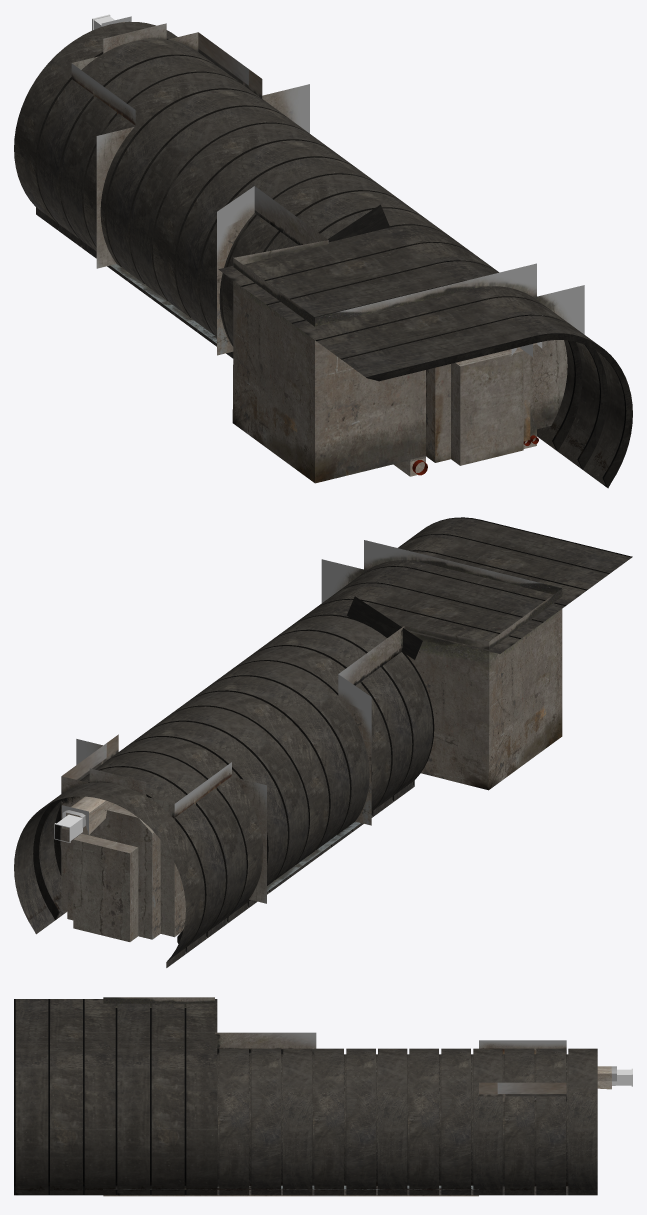
The model's file is room_hall_final1.gltf.
The picture shows the model from 3 angles, top to bottom: view 1: azimuth 30°, elevation 25°; view 2: azimuth 150°, elevation 25°; view 3: azimuth 270°, elevation 25°; orthographic projection. The views are drawn at different scales.
Visible parts, largest first — view 1: round_ceil_allround, wall_and_floor, round_ceil_extend, fix_zed; view 2: round_ceil_allround, wall_and_floor, round_ceil_extend, fix_zed; view 3: round_ceil_allround, round_ceil_extend, wall_and_floor.
Boxes of the visible parts, x1,y1,x2,y2 form: round_ceil_allround: [14, 21, 448, 358]; wall_and_floor: [71, 16, 584, 483]; round_ceil_extend: [218, 225, 632, 488]; fix_zed: [326, 204, 389, 242]; round_ceil_allround: [14, 614, 434, 967]; wall_and_floor: [61, 540, 562, 941]; round_ceil_extend: [293, 517, 632, 653]; fix_zed: [347, 596, 422, 659]; round_ceil_allround: [217, 1048, 597, 1195]; round_ceil_extend: [14, 999, 217, 1195]; wall_and_floor: [103, 997, 616, 1196].
Bounding box in the file's own units: 8.93 × 6 × 24.72.
